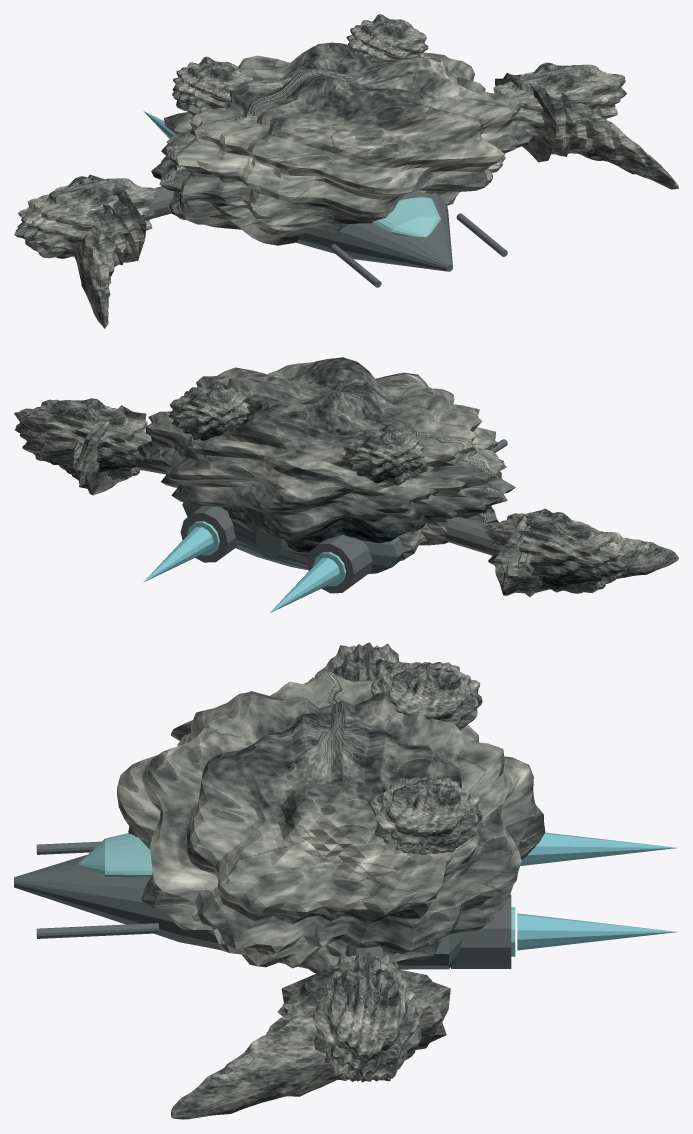
Rendered from feist_gray_flight.glb.
The picture shows the model from 3 angles, top to bottom: view 1: azimuth 30°, elevation 25°; view 2: azimuth 150°, elevation 25°; view 3: azimuth 270°, elevation 25°; orthographic projection. The views are drawn at different scales.
Parts seen in each view (by area): view 1: rock_main_1, claw_14, wing_root_5, hull_2, claw_6, wing_root_13, upper_shield_7, upper_shield_15, cockpit_3, hinge_4, gun_8, gun_16; view 2: rock_main_1, wing_root_5, wing_root_13, claw_6, upper_shield_7, upper_shield_15, hull_2, claw_14, engine_9, engine_17, jet_19, jet_11 (+1 smaller); view 3: rock_main_1, claw_14, wing_root_13, hull_2, upper_shield_15, upper_shield_7, jet_19, engine_17, jet_11, cockpit_3, wing_root_5, gun_16.
Part boxes in pixels (x1,y1,x2,y2): rock_main_1: (151,42,532,245); claw_14: (495,73,678,189); wing_root_5: (14,176,158,258); hull_2: (295,191,452,271); claw_6: (73,174,146,328); wing_root_13: (493,62,626,144); upper_shield_7: (172,56,252,112); upper_shield_15: (346,14,428,60); cockpit_3: (372,197,441,237); hinge_4: (148,186,174,219); gun_8: (330,244,381,287); gun_16: (456,213,507,256); rock_main_1: (137,357,515,560); wing_root_5: (481,512,626,593); wing_root_13: (14,398,151,479); claw_6: (494,508,678,597); upper_shield_7: (342,424,424,485); upper_shield_15: (168,382,249,440); hull_2: (182,502,404,574); claw_14: (71,405,146,495); engine_9: (307,535,372,593); engine_17: (180,506,237,562); jet_19: (143,527,213,582); jet_11: (270,558,339,612); rock_main_1: (117,672,545,973); claw_14: (171,960,450,1119); wing_root_13: (312,952,421,1082); hull_2: (14,854,462,969); upper_shield_15: (370,777,482,854); upper_shield_7: (370,662,482,730); jet_19: (517,913,677,950); engine_17: (451,894,511,968); jet_11: (520,832,677,865); cockpit_3: (78,833,152,877); wing_root_5: (314,642,402,681); gun_16: (36,923,159,938).
Bounding box in the file's own units: 4.66 × 1.14 × 3.21.
1 material, 1 textured.
